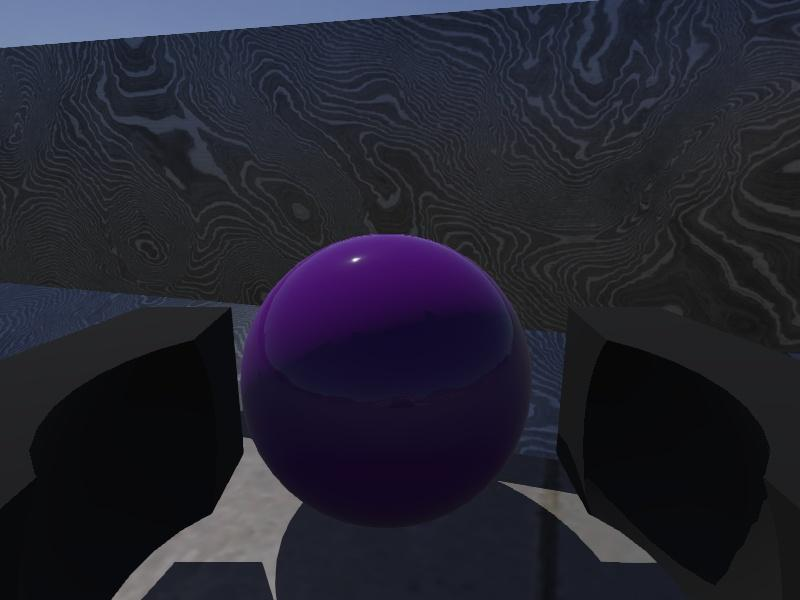violet ball: (239, 232, 534, 530)
